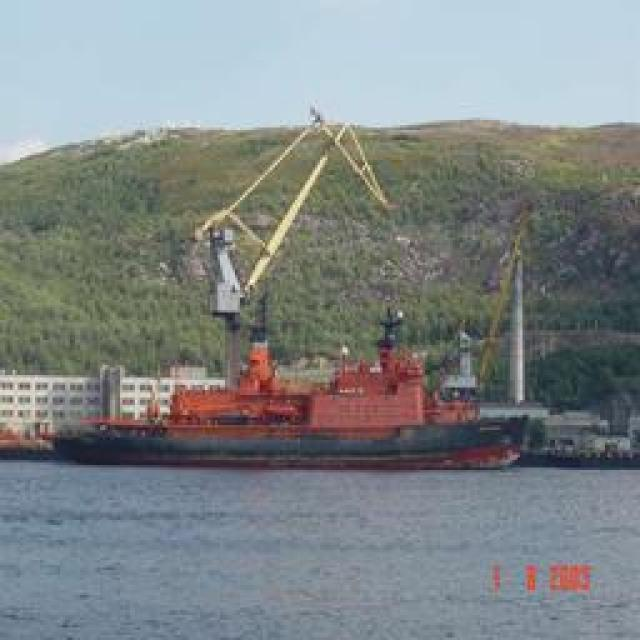CIV_Ship: (38, 326, 520, 472)
